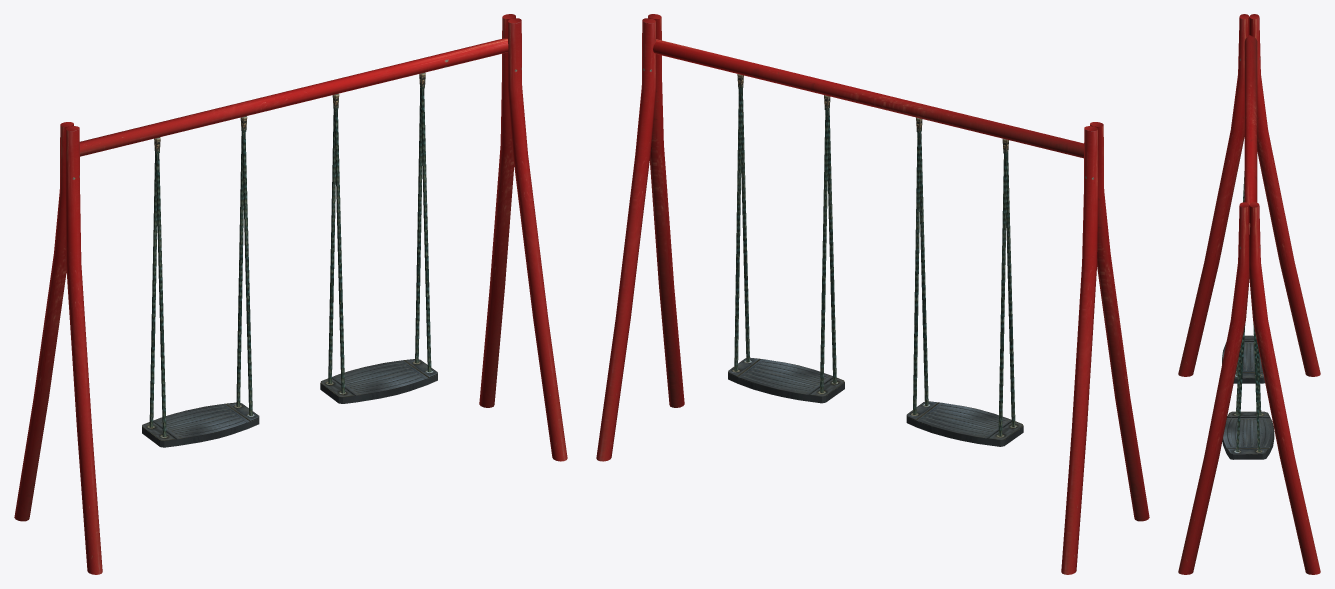
File: swings_2.FBX
3 renders of one model, left to right at view 1: azimuth 30°, elevation 25°; view 2: azimuth 150°, elevation 25°; view 3: azimuth 270°, elevation 25°, orthographic. The views are drawn at different scales.
Visible parts, largest first — view 1: Cylinder002; view 2: Cylinder002; view 3: Cylinder002.
Boxes of the visible parts, box(x1,y1,x2,y2) form: Cylinder002: box(14, 14, 567, 574); Cylinder002: box(596, 14, 1149, 574); Cylinder002: box(1178, 14, 1320, 574).
Size of the model in its own units: 148 by 123 by 43.85.
